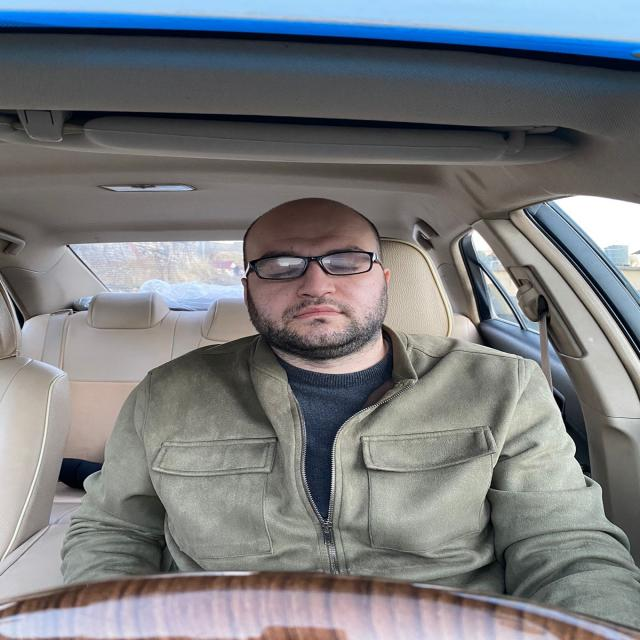drowsy: (240, 200, 392, 350)
